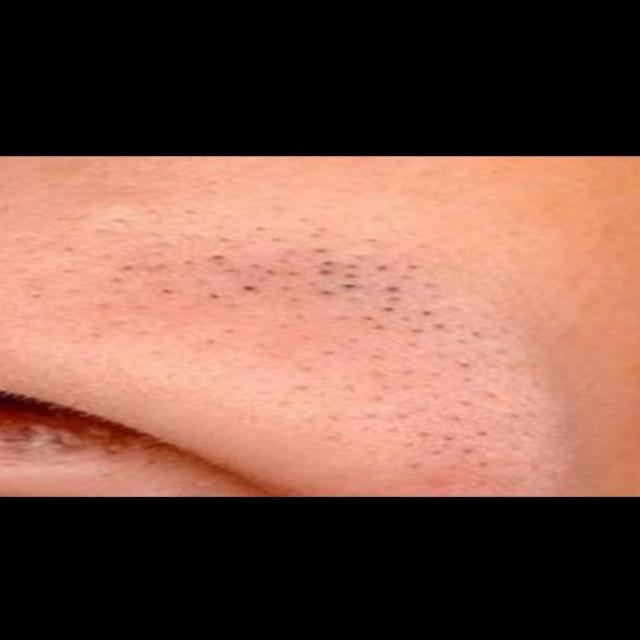blackhead: (78, 216, 538, 359)
